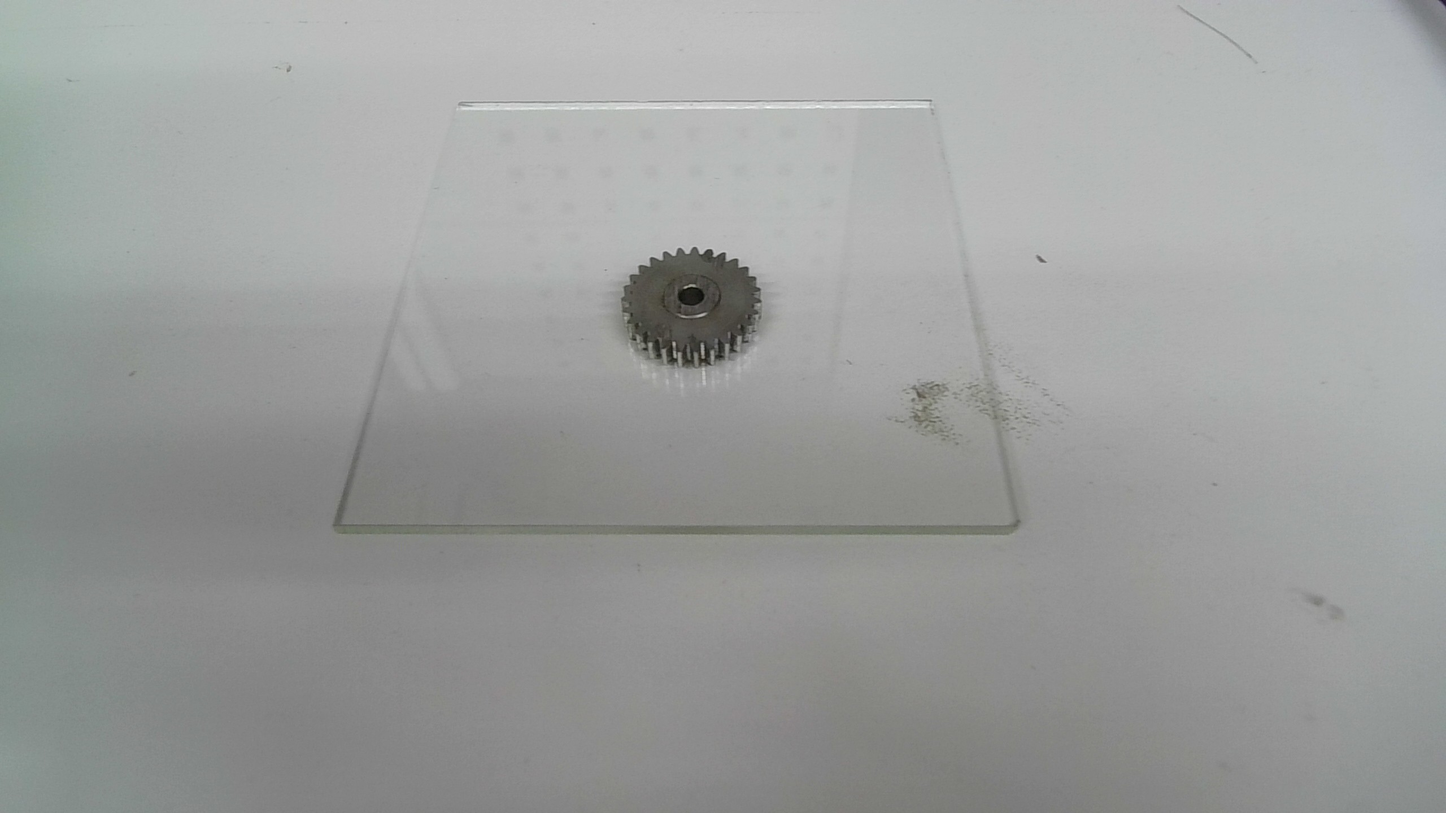gear: (619, 244, 765, 371)
